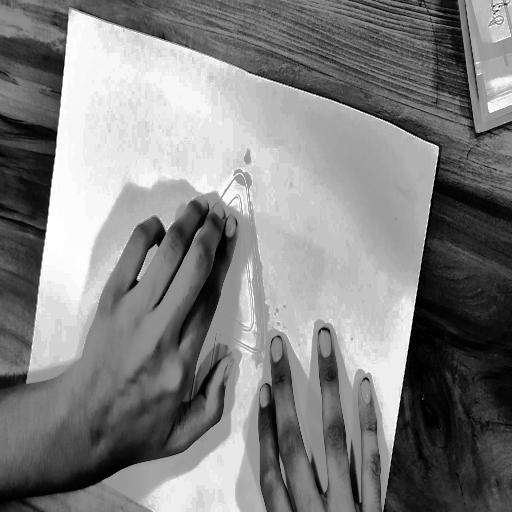signboard: (131, 146, 312, 466)
top_left: (65, 4, 76, 18)
top_right: (435, 138, 444, 156)
